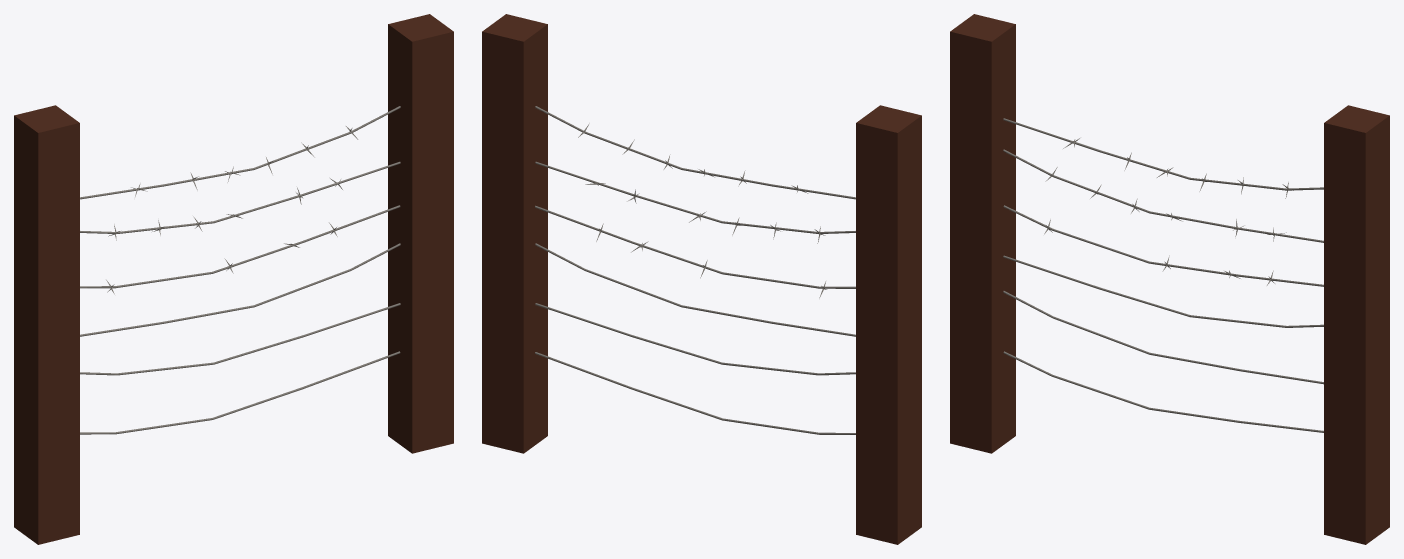
Rendered from koluchka.fbx.
The picture shows the model from 3 angles, left to right: view 1: azimuth 30°, elevation 25°; view 2: azimuth 150°, elevation 25°; view 3: azimuth 330°, elevation 25°; orthographic projection.
Visible parts, largest first — view 1: Столоб2, Столб1, Проволока; view 2: Столоб2, Столб1, Проволока; view 3: Столб1, Столоб2, Проволока.
Boxes of the visible parts, box(x1,y1,x2,y2) form: Столоб2: box(14, 105, 79, 544); Столб1: box(388, 14, 453, 453); Проволока: box(80, 106, 400, 434); Столоб2: box(856, 105, 921, 544); Столб1: box(482, 14, 547, 453); Проволока: box(535, 106, 855, 434); Столб1: box(1324, 105, 1389, 544); Столоб2: box(950, 14, 1015, 453); Проволока: box(1003, 118, 1323, 432).
Size of the model in its own units: 445 by 421 by 44.59.
